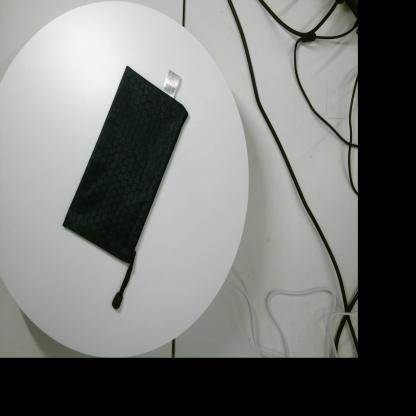Stationery: (62, 66, 188, 309)
